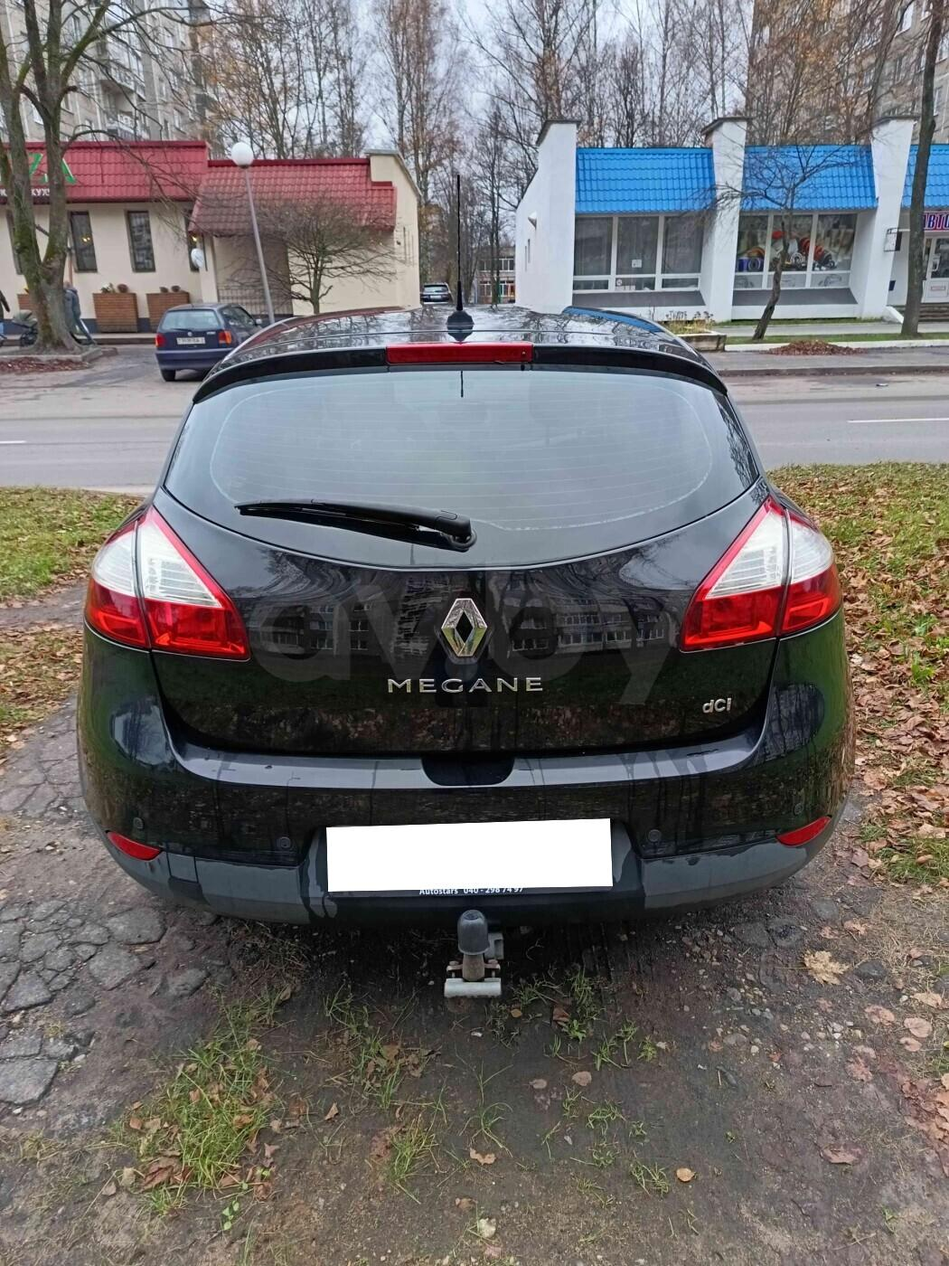Megane_2008-2014: (67, 309, 860, 987)
